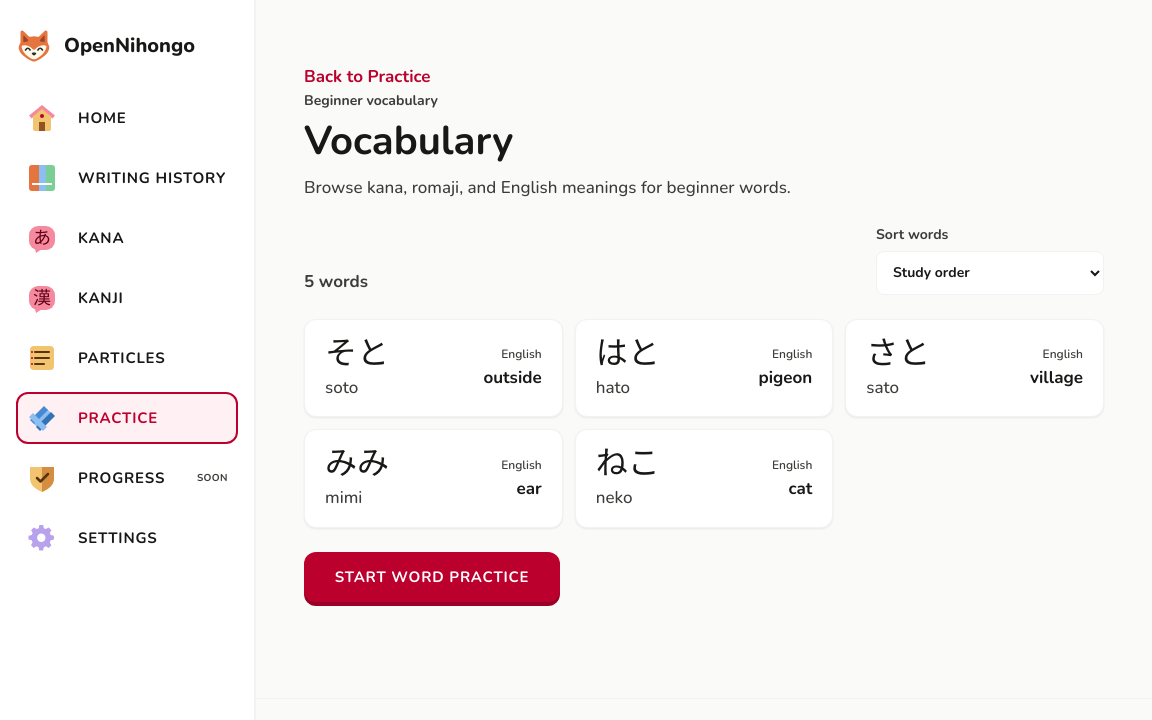
Words library › sorts by Japanese alphabetical order and links to word practice
The width and height of the screenshot is (1152, 720).
Expected: the heading "Vocabulary" is shown, [304,114,513,168]
Select "Japanese alphabetical order" in the dropdown labelled "Sort words" at {"x": 990, "y": 273}, box [876,251,1104,295]
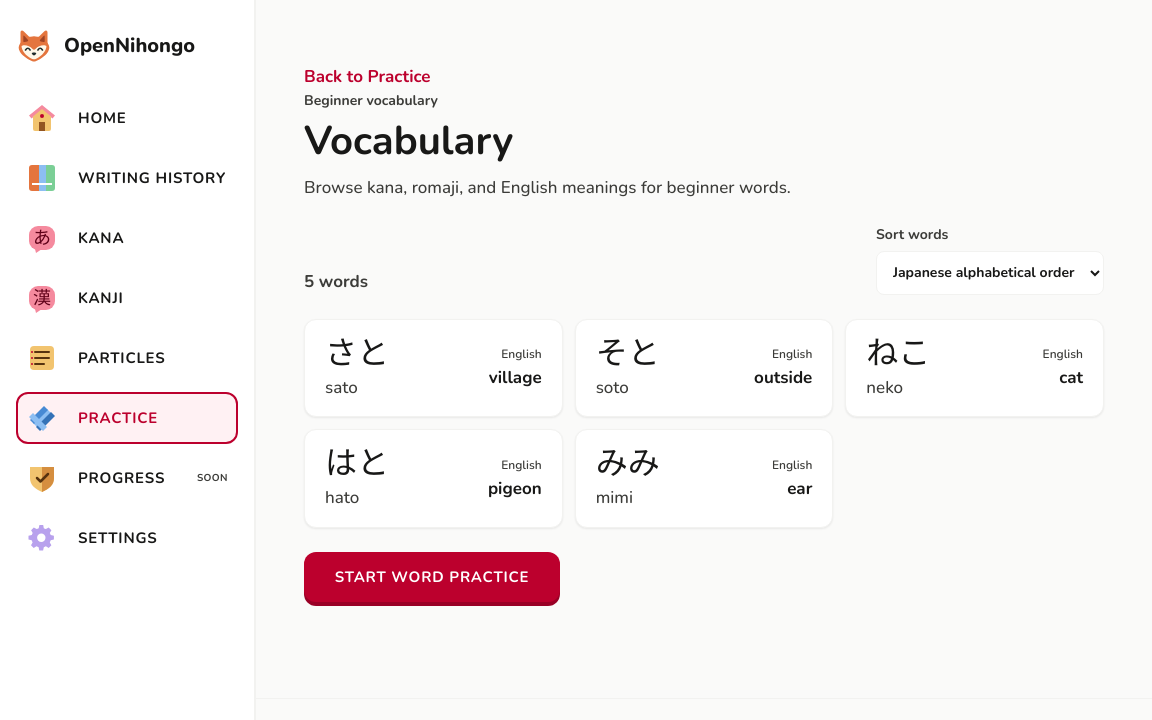
Result: the headings read "さと", "そと", "ねこ", "はと", "みみ", in this order at [325,336,389,371]; [596,336,660,371]; [866,336,930,371]; [325,446,389,482]; [596,446,660,482]
